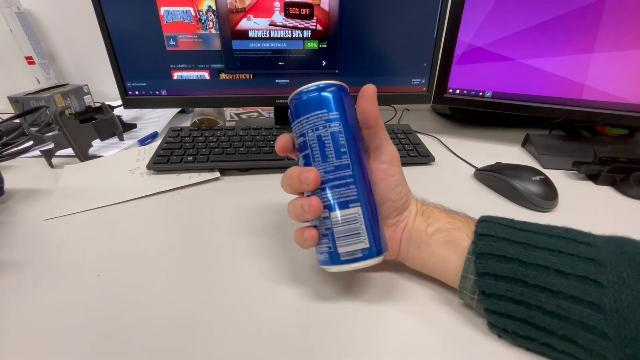Pepsi: (284, 78, 391, 278)
